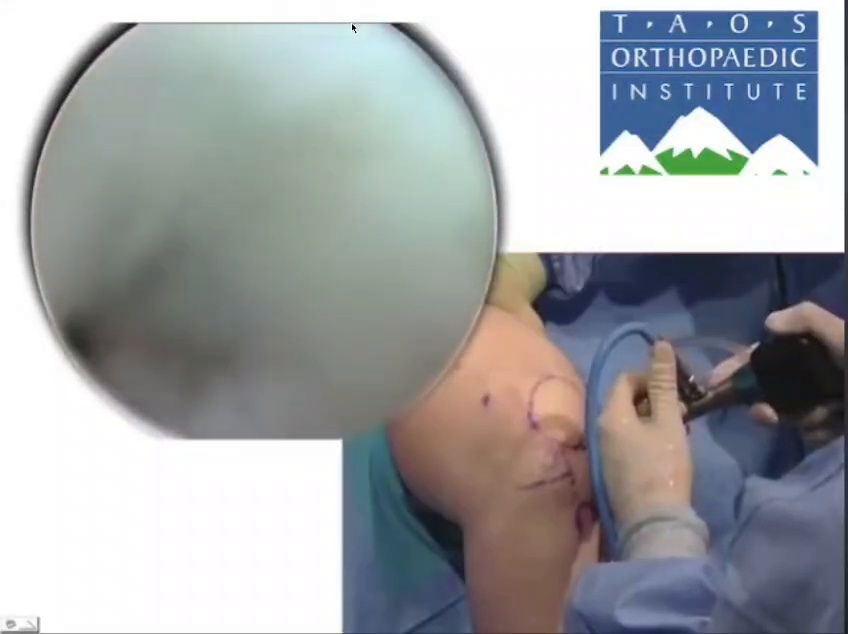arthroscope: (532, 309, 748, 634)
probe: (735, 428, 848, 606), (757, 293, 848, 358), (185, 429, 355, 463)
